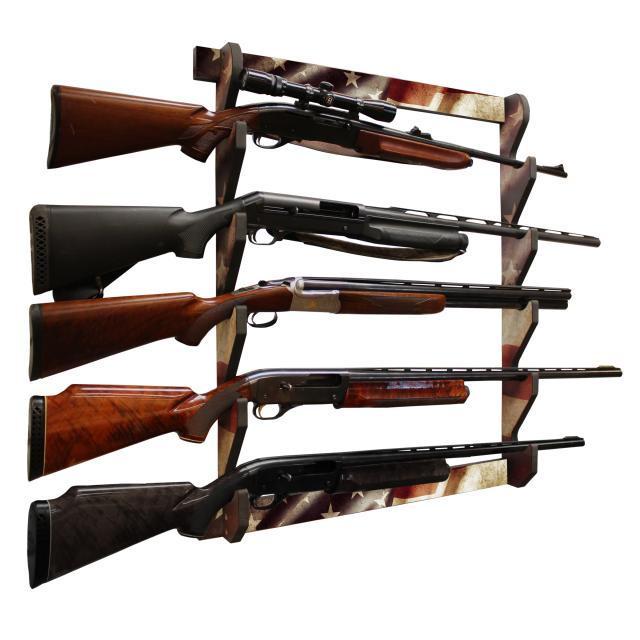ShotGun: (29, 436, 586, 589), (30, 365, 618, 480), (30, 191, 605, 294), (48, 69, 570, 178), (29, 278, 573, 381)
